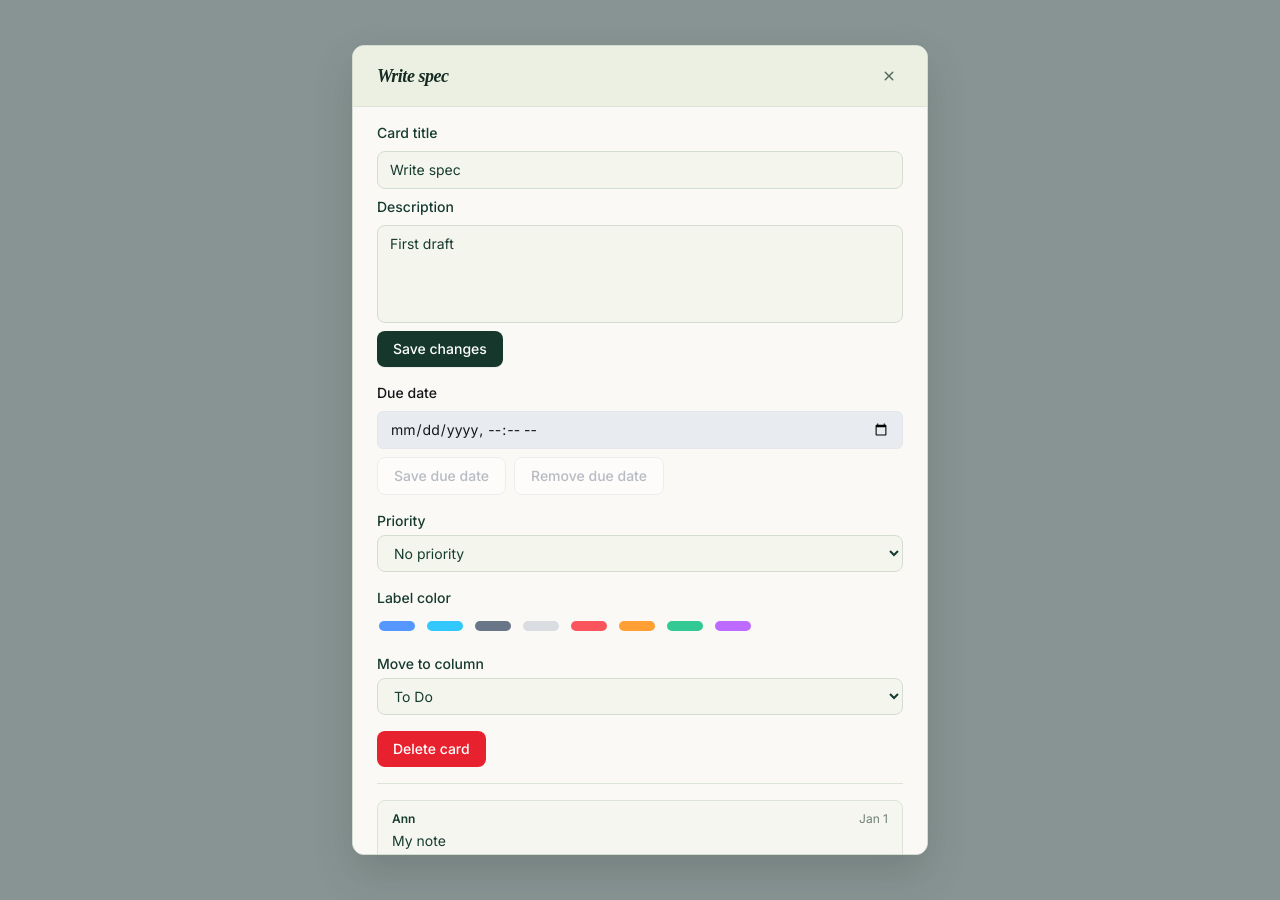
Test: CardDetailModal › shows an error when the move fails and does not report success
Select "Done" in the dropdown labelled "Move to column": (640, 696) x1=377 y1=678 x2=903 y2=715
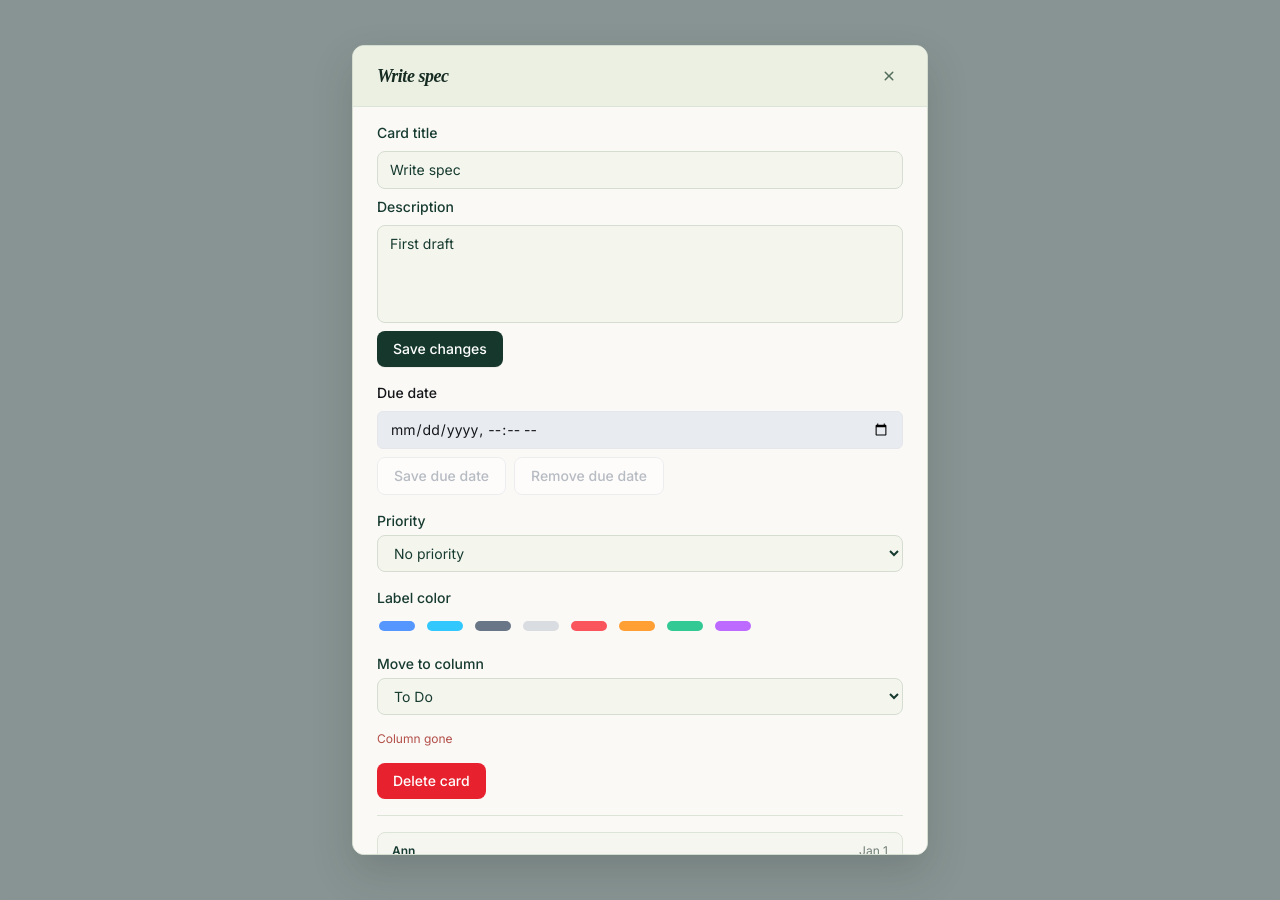
Expected: the text "Column gone" is shown, x1=377 y1=731 x2=453 y2=746
